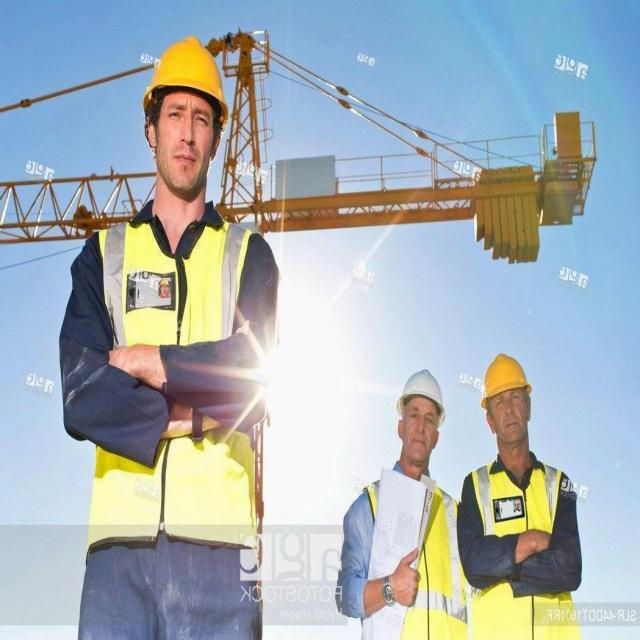face_nomask: (154, 87, 218, 190), (393, 398, 440, 477), (495, 391, 531, 454)
hand_noglove: (386, 544, 428, 612)
head_helmet: (139, 36, 232, 119), (395, 366, 448, 415), (477, 353, 529, 402)
person: (59, 37, 278, 637), (332, 357, 467, 640), (460, 346, 581, 631)
vest: (82, 212, 267, 560), (470, 462, 576, 636), (358, 483, 462, 640)
